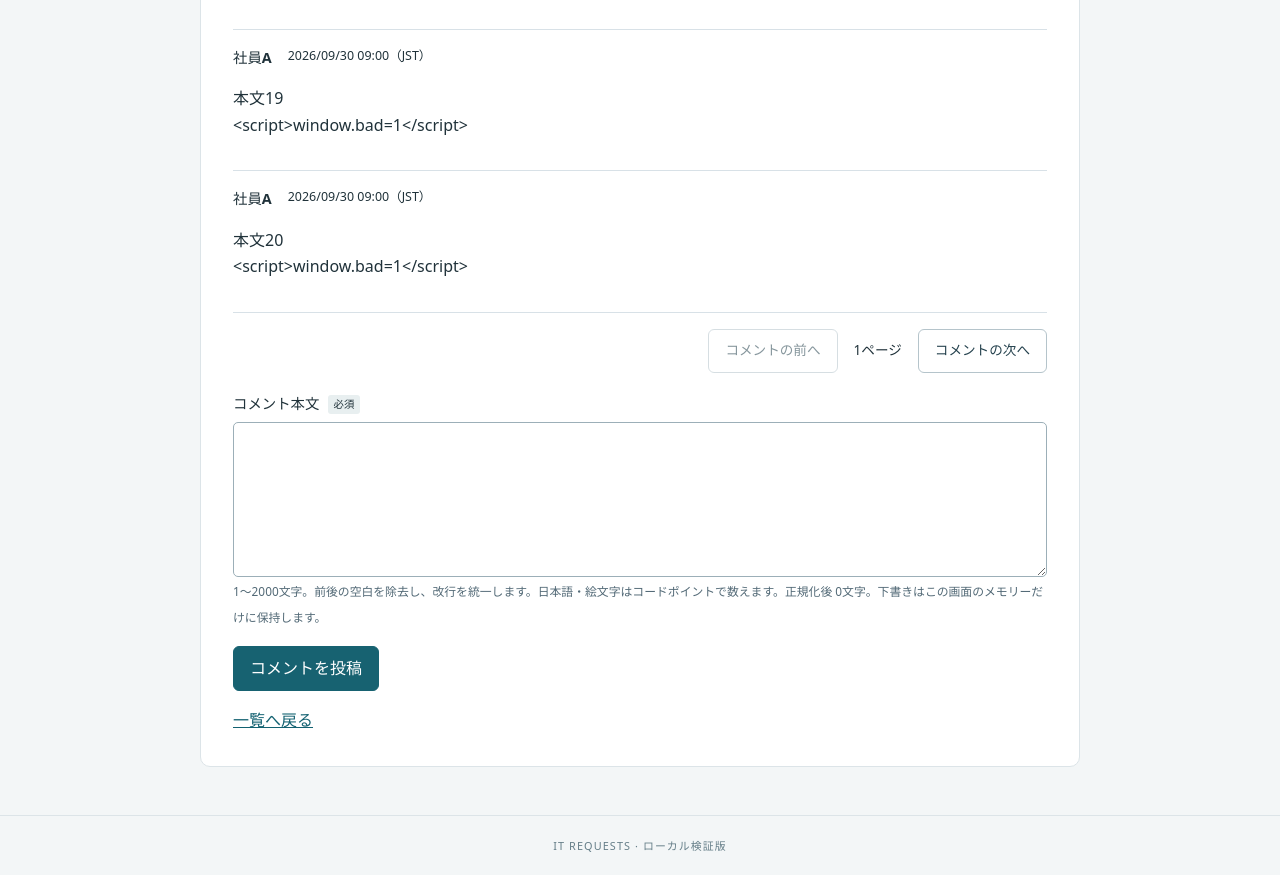
it: comments with mock APIs › waits for authorized detail, pages old-first, keeps draft and renders text/JST
(page scrolled)
In the text box labelled "コメント本文 必須": (640, 499) [233, 422, 1047, 577], type "保持する下書き"
(page scrolled)
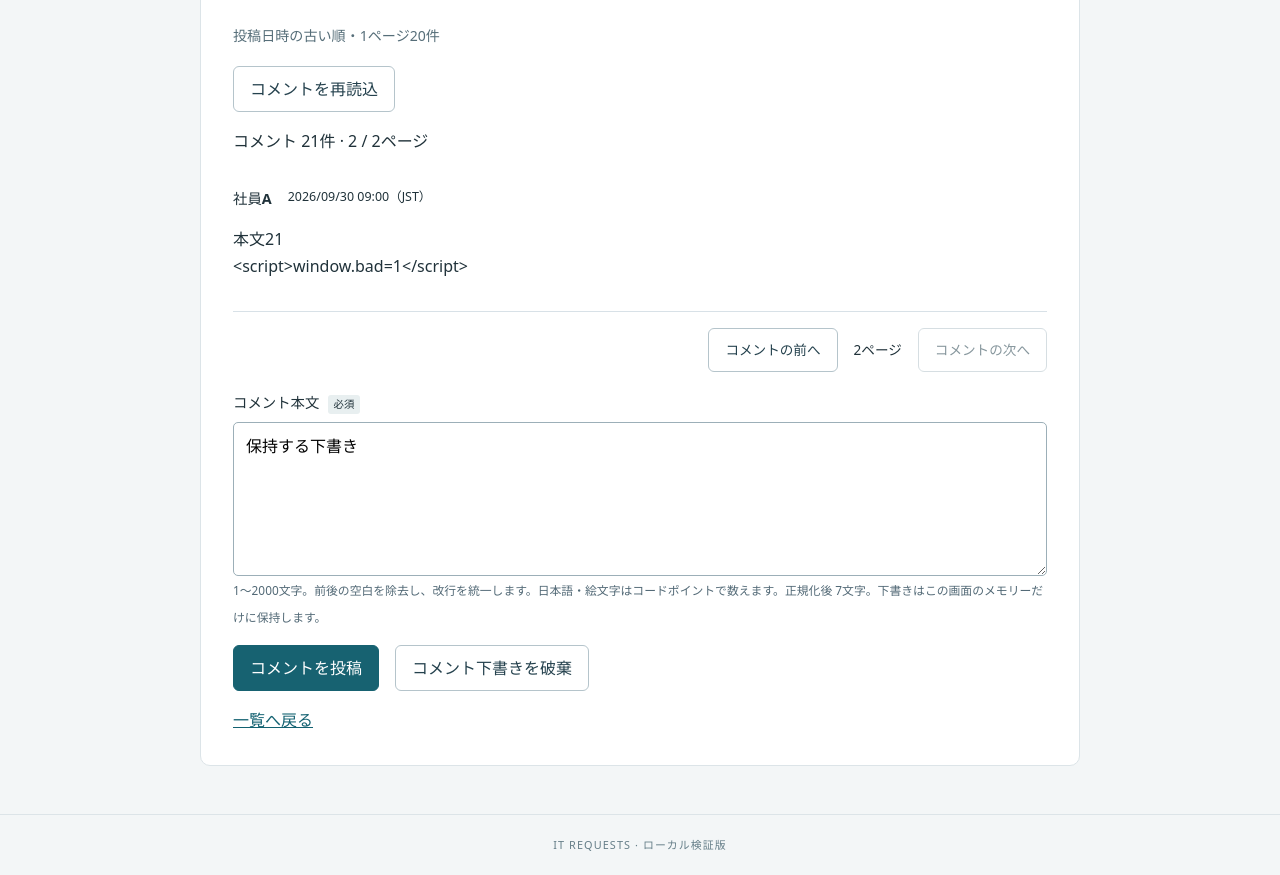
Expected: the number of list items is 1, [233, 171, 1047, 312]
